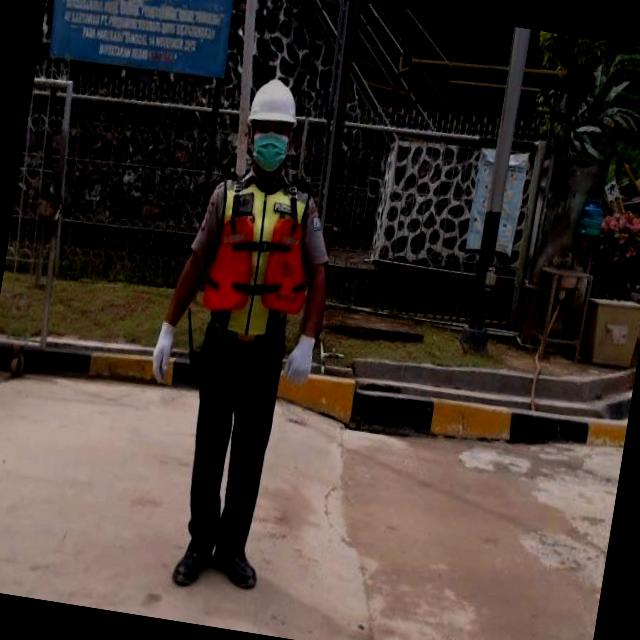vest: (199, 171, 322, 346)
